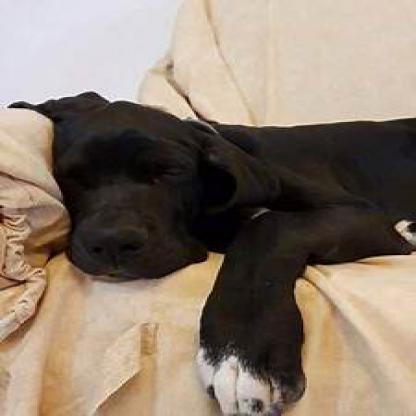dog: (9, 91, 414, 414)
